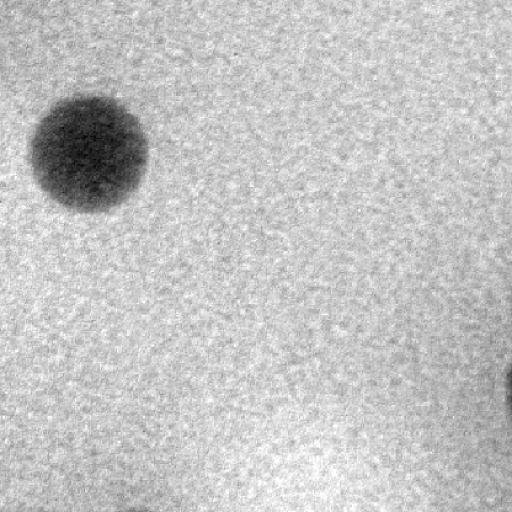Nanoparticles: (30, 94, 152, 214)
